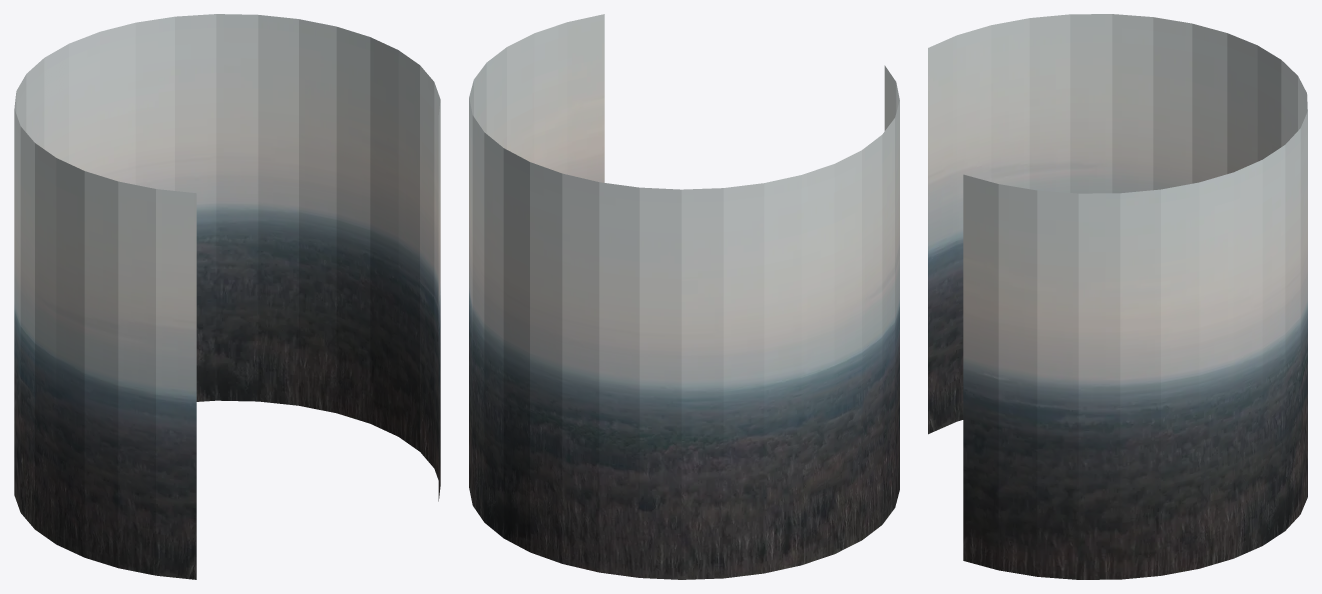
File: NATURE_Cylinder.glb
3 views of the same model, side by side, from view 1: azimuth 30°, elevation 25°; view 2: azimuth 150°, elevation 25°; view 3: azimuth 270°, elevation 25° (orthographic).
Parts seen in each view (by area): view 1: Cylinder; view 2: Cylinder; view 3: Cylinder.
Boxes of the visible parts, x1=… form: Cylinder: x1=14, y1=14, x2=440, y2=579; Cylinder: x1=469, y1=14, x2=899, y2=579; Cylinder: x1=928, y1=14, x2=1307, y2=579.
Size of the model in its own units: 43.79 by 43.93 by 39.13.
1 material, 1 textured.
